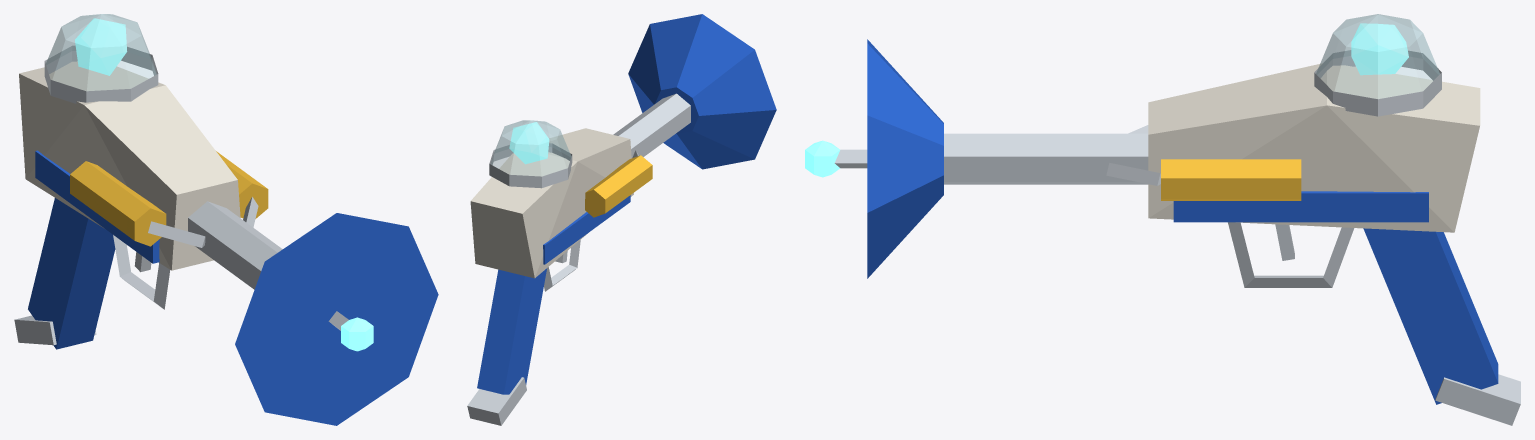
File: Wpn_Blaster_Disintegrator.fbx
3 views of the same model, side by side, from view 1: azimuth 30°, elevation 25°; view 2: azimuth 150°, elevation 25°; view 3: azimuth 270°, elevation 25° (orthographic). The views are drawn at different scales.
Parts seen in each view (by area): view 1: Wpn_Blaster_Disintegrator_Body, Wpn_Blaster_Disintegrator_Dome, Wpn_Blaster_Disintegrator_Core; view 2: Wpn_Blaster_Disintegrator_Body, Wpn_Blaster_Disintegrator_Dome, Wpn_Blaster_Disintegrator_Core; view 3: Wpn_Blaster_Disintegrator_Body, Wpn_Blaster_Disintegrator_Dome, Wpn_Blaster_Disintegrator_Core.
Part boxes in pixels (x1,y1,x2,y2): Wpn_Blaster_Disintegrator_Body: (14,46,438,425); Wpn_Blaster_Disintegrator_Dome: (46,14,156,90); Wpn_Blaster_Disintegrator_Core: (75,18,373,351); Wpn_Blaster_Disintegrator_Body: (467,14,776,425); Wpn_Blaster_Disintegrator_Dome: (491,120,571,176); Wpn_Blaster_Disintegrator_Core: (509,122,549,164); Wpn_Blaster_Disintegrator_Body: (834,39,1520,425); Wpn_Blaster_Disintegrator_Dome: (1316,14,1439,98); Wpn_Blaster_Disintegrator_Core: (805,23,1408,177).
Bounding box in the file's own units: 0.2 × 0.3459 × 0.5608.
